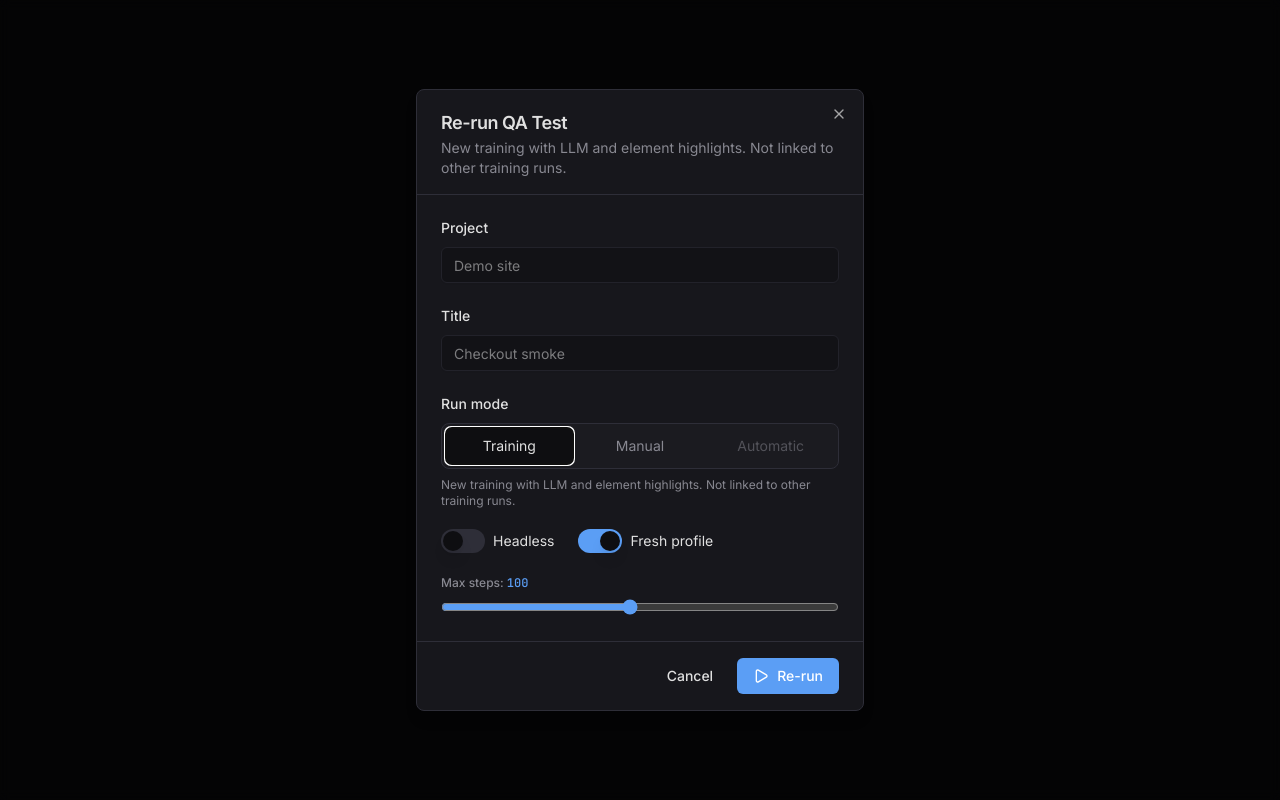
Test: NewRunModal › hides max steps on re-run when manual mode is selected
The image size is (1280, 800).
What coordinates should you click on to do the following:
click the button "Manual"
I would click on:
 (640, 446)
Its box is [577,428,703,464].
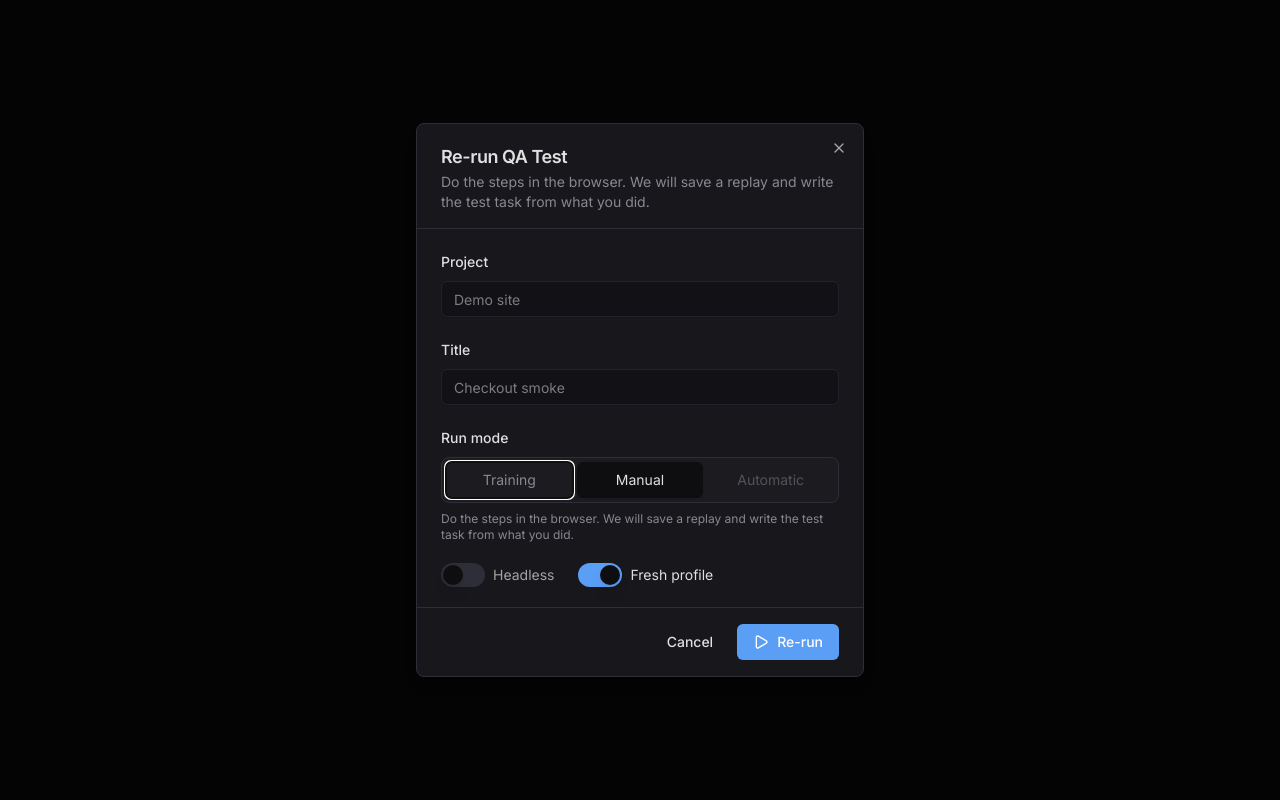
expect the label labelled "Max steps" is gone: met
expect the switch named "headless" next to "Headless" is disabled: met, box [441,563,485,587]
